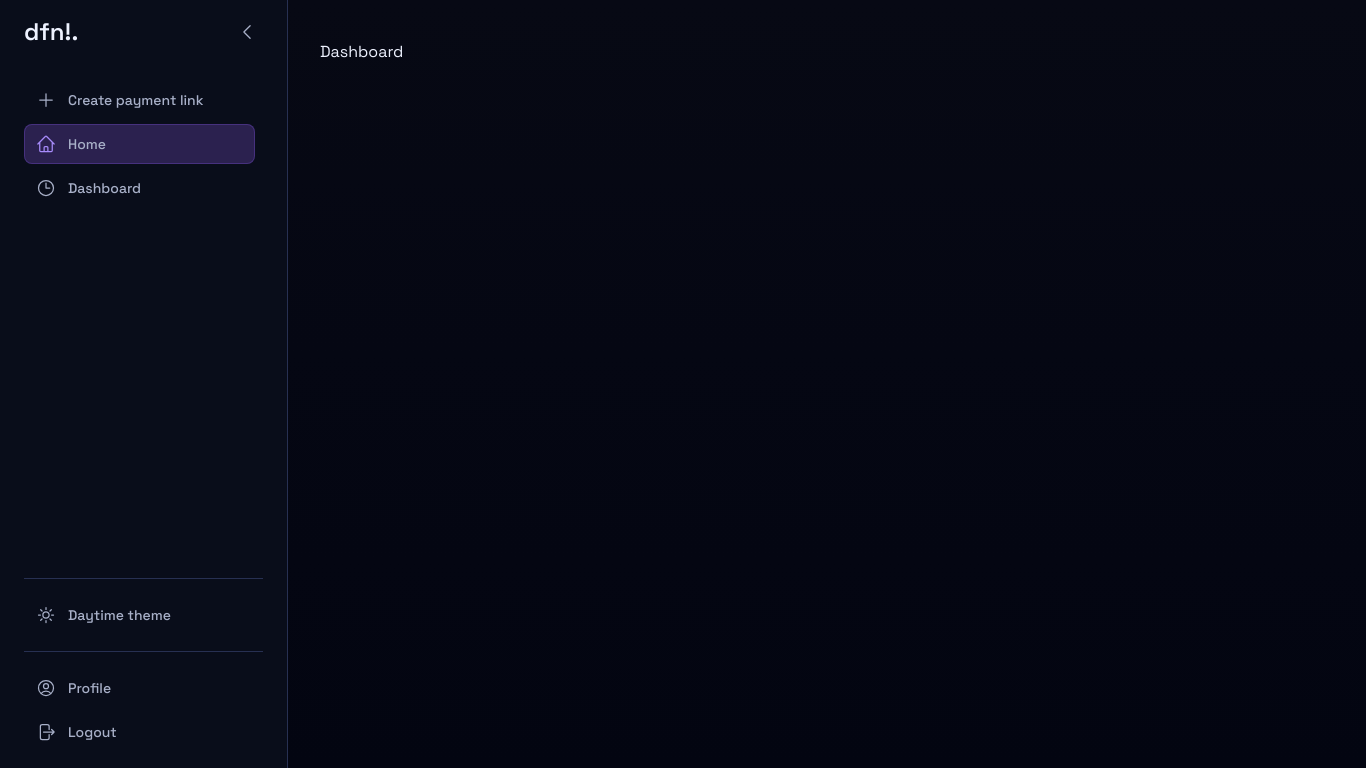
DefineLayout theme toggle › toggles the sidebar theme icon and persists the selected theme
Click the button with aria-label "switch to daytime theme": {"x": 144, "y": 615} [24,595,263,635]
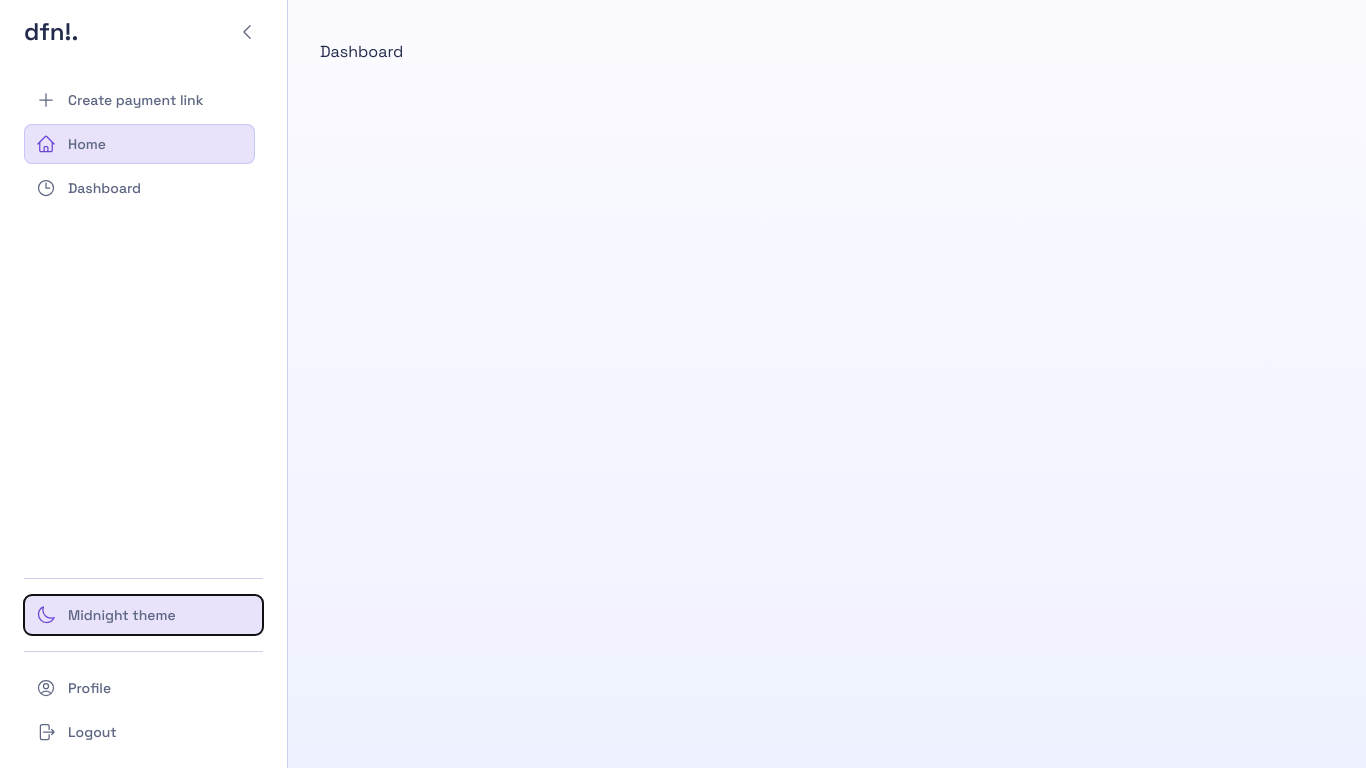
Result: the button with aria-label "switch to midnight theme" is shown at [24,595,263,635]
